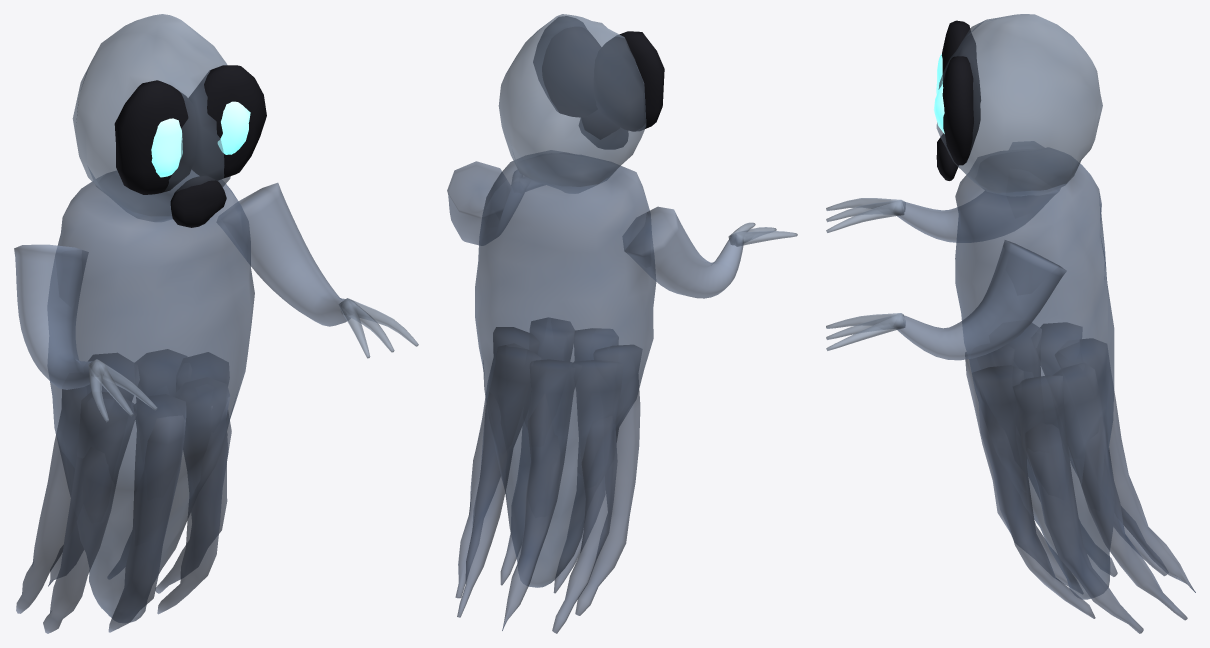
3 renders of one model, left to right at view 1: azimuth 30°, elevation 25°; view 2: azimuth 150°, elevation 25°; view 3: azimuth 270°, elevation 25°, orthographic. The views are drawn at different scales.
Visible parts, largest first — view 1: torso, armL, armR; view 2: torso, armR, armL; view 3: torso, armL, armR.
Part boxes in pixels (x1,y1,x2,y2): torso: (16, 14, 266, 633); armL: (216, 182, 418, 358); armR: (14, 244, 157, 422); torso: (455, 14, 664, 633); armR: (622, 206, 797, 298); armL: (447, 161, 543, 245); torso: (933, 14, 1195, 633); armL: (826, 240, 1066, 360); armR: (826, 141, 1059, 242).
Size of the model in its own units: 0.5758 by 1.11 by 0.6362.
